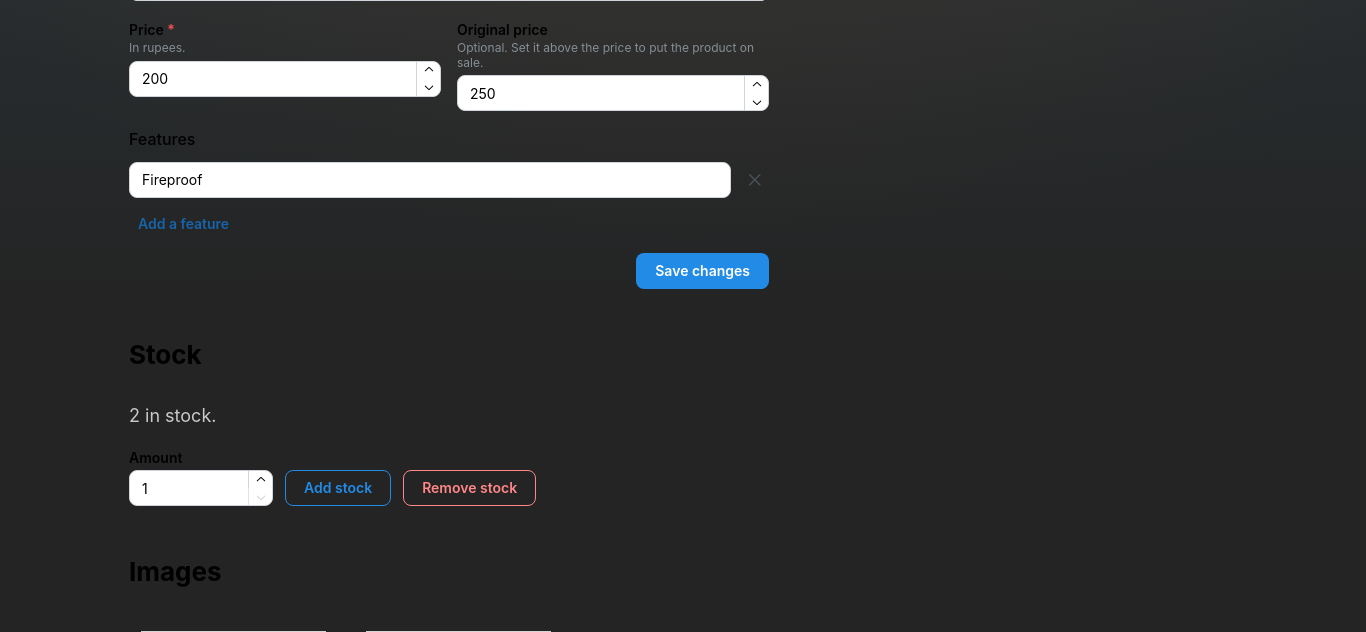
it: editing details › says so when nothing changed
The width and height of the screenshot is (1366, 632).
(page scrolled)
Click the button "Save changes" at (703, 270), box [636,252,769,288]
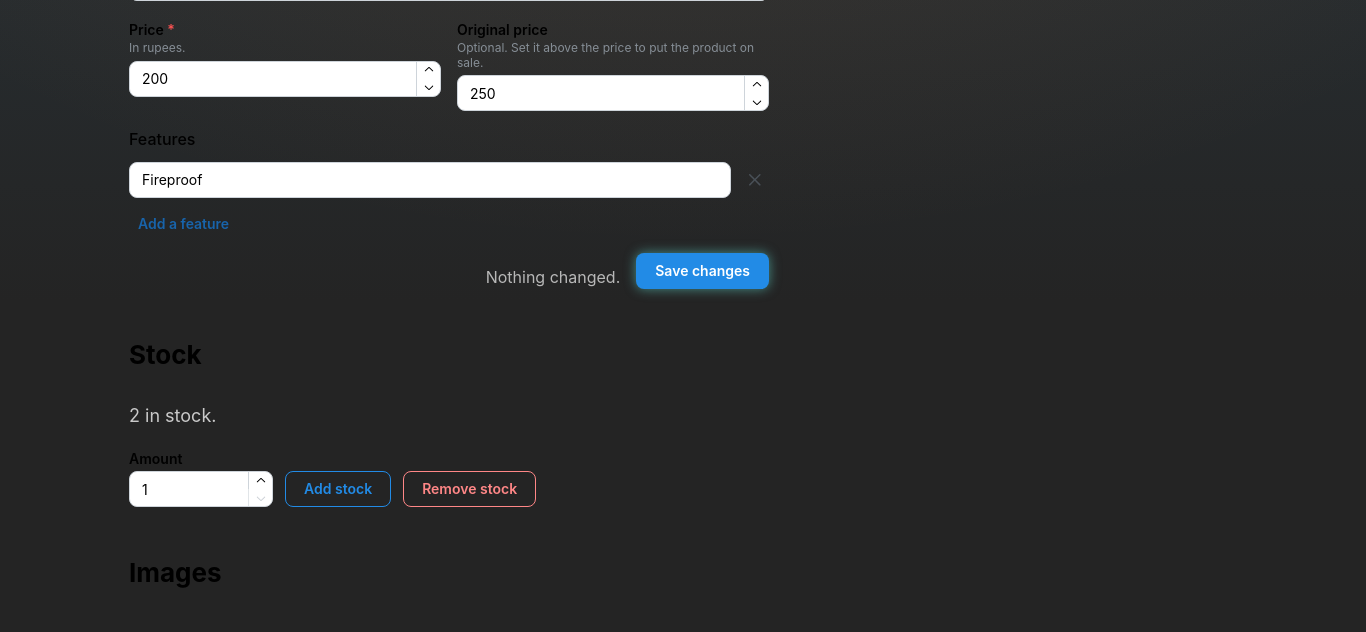
Expected: the message reads "Nothing changed.", [486,266,620,286]
